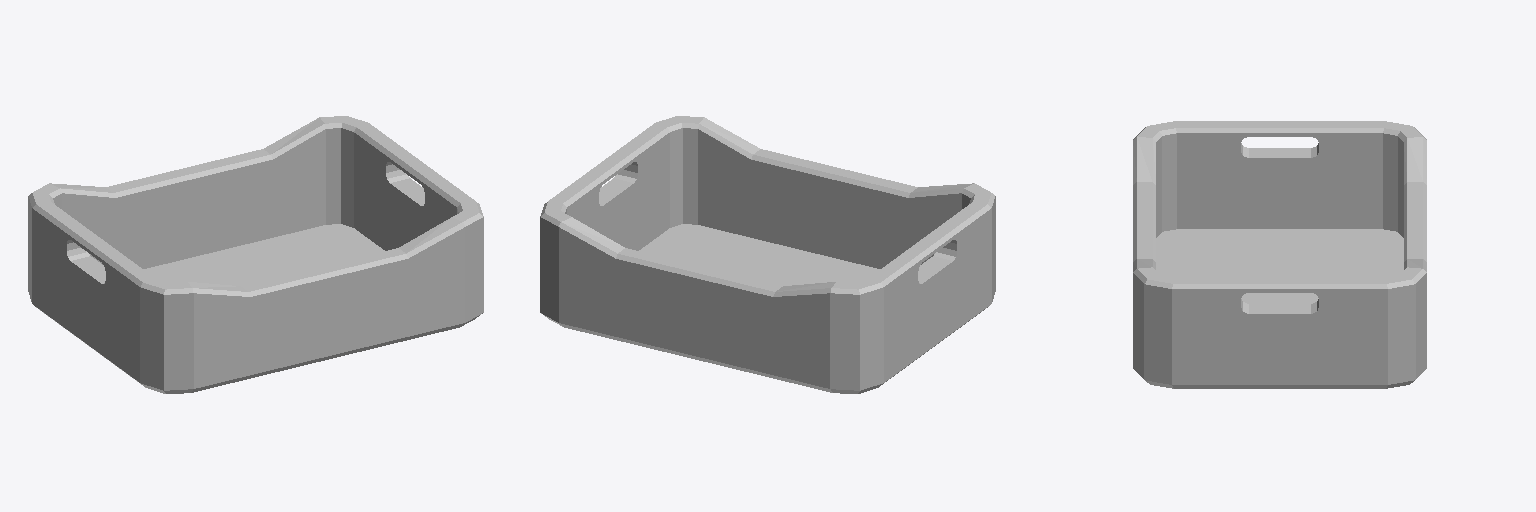
File: basket_B.obj
3 views of the same model, side by side, from view 1: azimuth 30°, elevation 25°; view 2: azimuth 150°, elevation 25°; view 3: azimuth 270°, elevation 25° (orthographic).
Visible parts, largest first — view 1: basket_B; view 2: basket_B; view 3: basket_B.
Part boxes in pixels (x1,y1,x2,y2): basket_B: (28, 116, 483, 393); basket_B: (540, 116, 995, 393); basket_B: (1133, 121, 1426, 388).
Bounding box in the file's own units: 1 × 0.3 × 0.75.